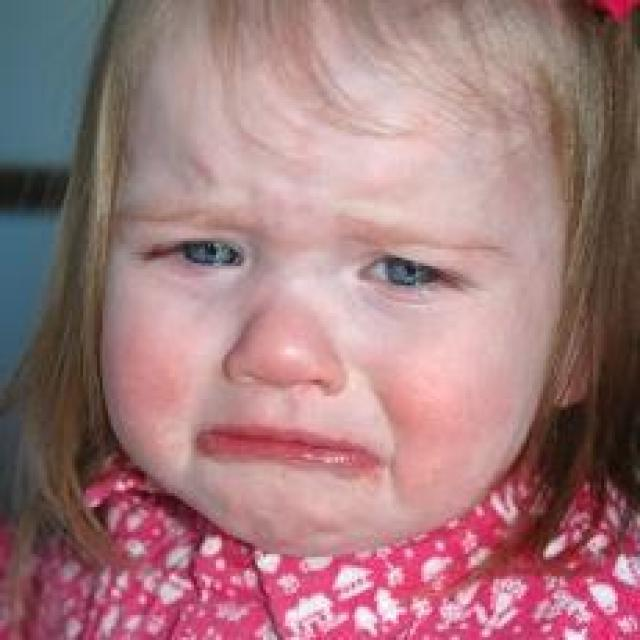sad: (86, 127, 554, 521)
